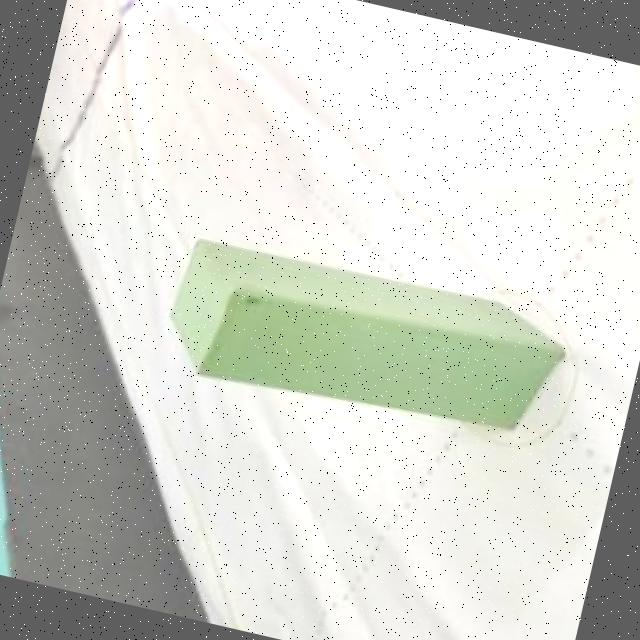greenbox: (150, 229, 577, 456)
